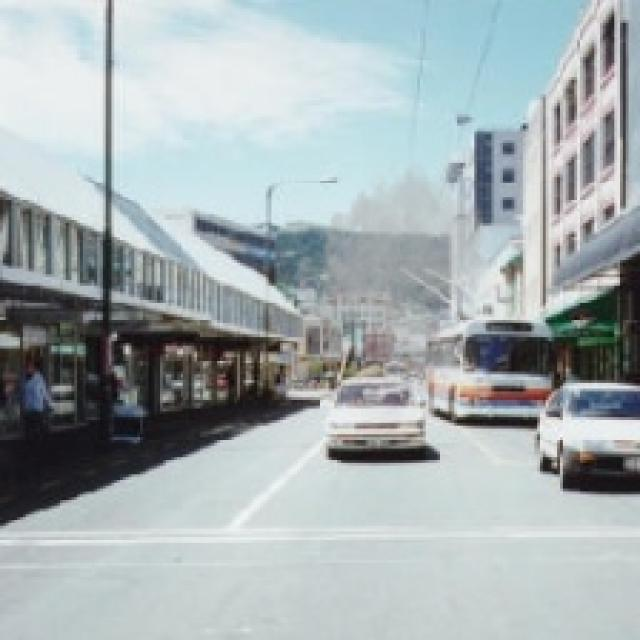Smoke: (283, 154, 492, 420)
